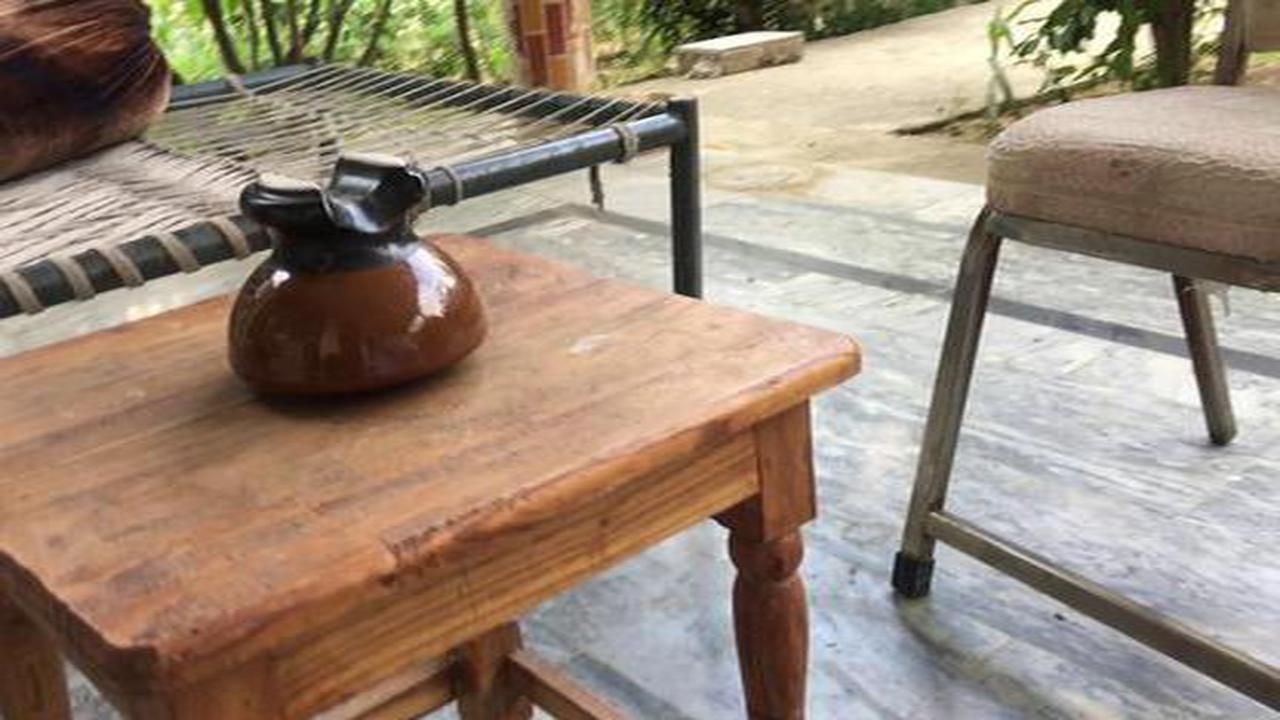insulator_pin: (201, 142, 496, 399)
